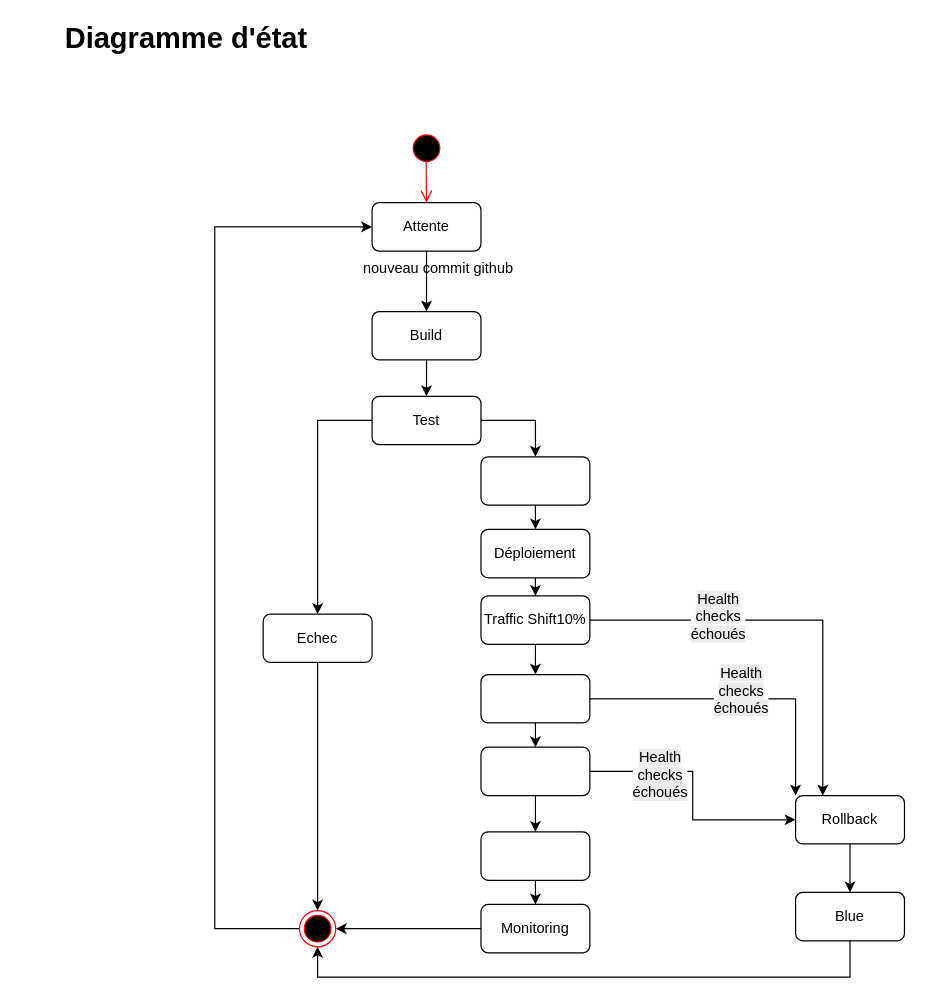
The diagram is 926 pixels wide and 1008 high, and some of its shapes have lost their labels. Here are the shapes that lost their labels. From the top down, the centre of each, then its label:
pixel 535 480: validé
pixel 535 698: Traffic Shift50%
pixel 535 771: Traffic Shift100%
pixel 535 855: Production
